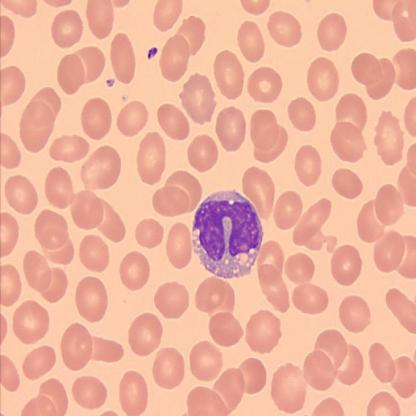Monocyte: (191, 189, 266, 281)
